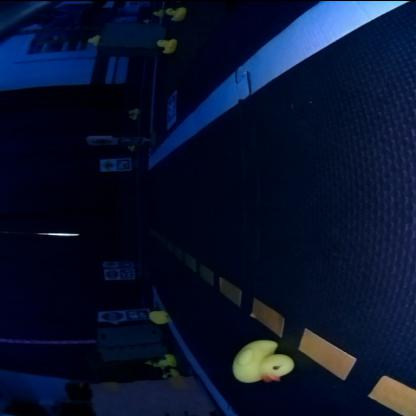Duckie: (233, 339, 292, 381), (149, 310, 168, 324), (158, 38, 176, 52), (166, 8, 184, 20), (160, 353, 174, 367), (88, 34, 100, 44), (162, 371, 178, 378), (127, 145, 136, 150), (154, 10, 160, 16)
Intersection sign: (102, 160, 115, 170)
QR code: (164, 90, 178, 130), (127, 310, 149, 320), (116, 159, 128, 169), (118, 271, 132, 276)
Stop sign: (100, 310, 122, 320), (104, 270, 116, 279)
